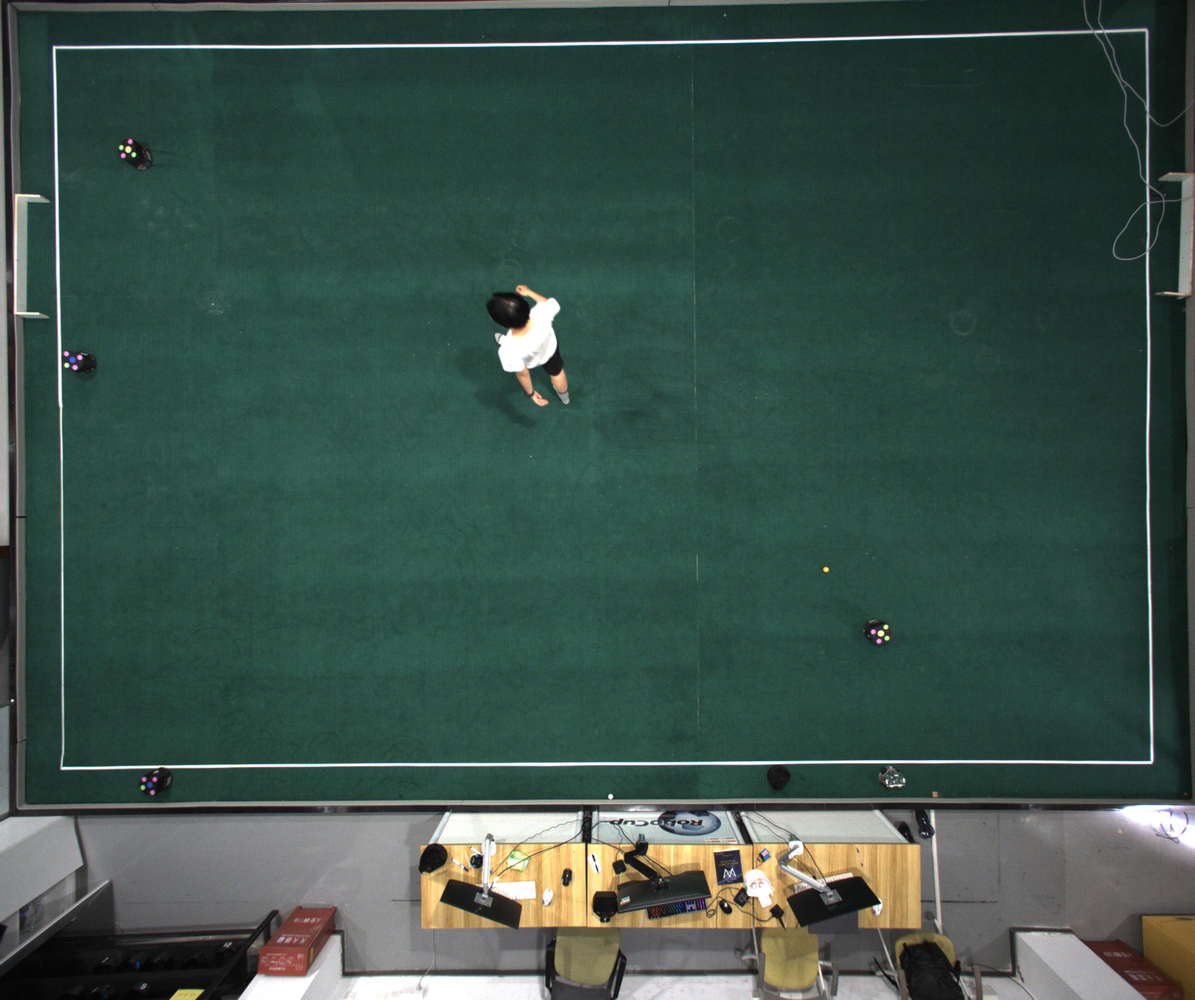ball: (823, 567, 828, 572)
blue_bot: (62, 350, 84, 371), (140, 776, 160, 796)
yellow_bot: (118, 138, 138, 163), (870, 624, 892, 645)
